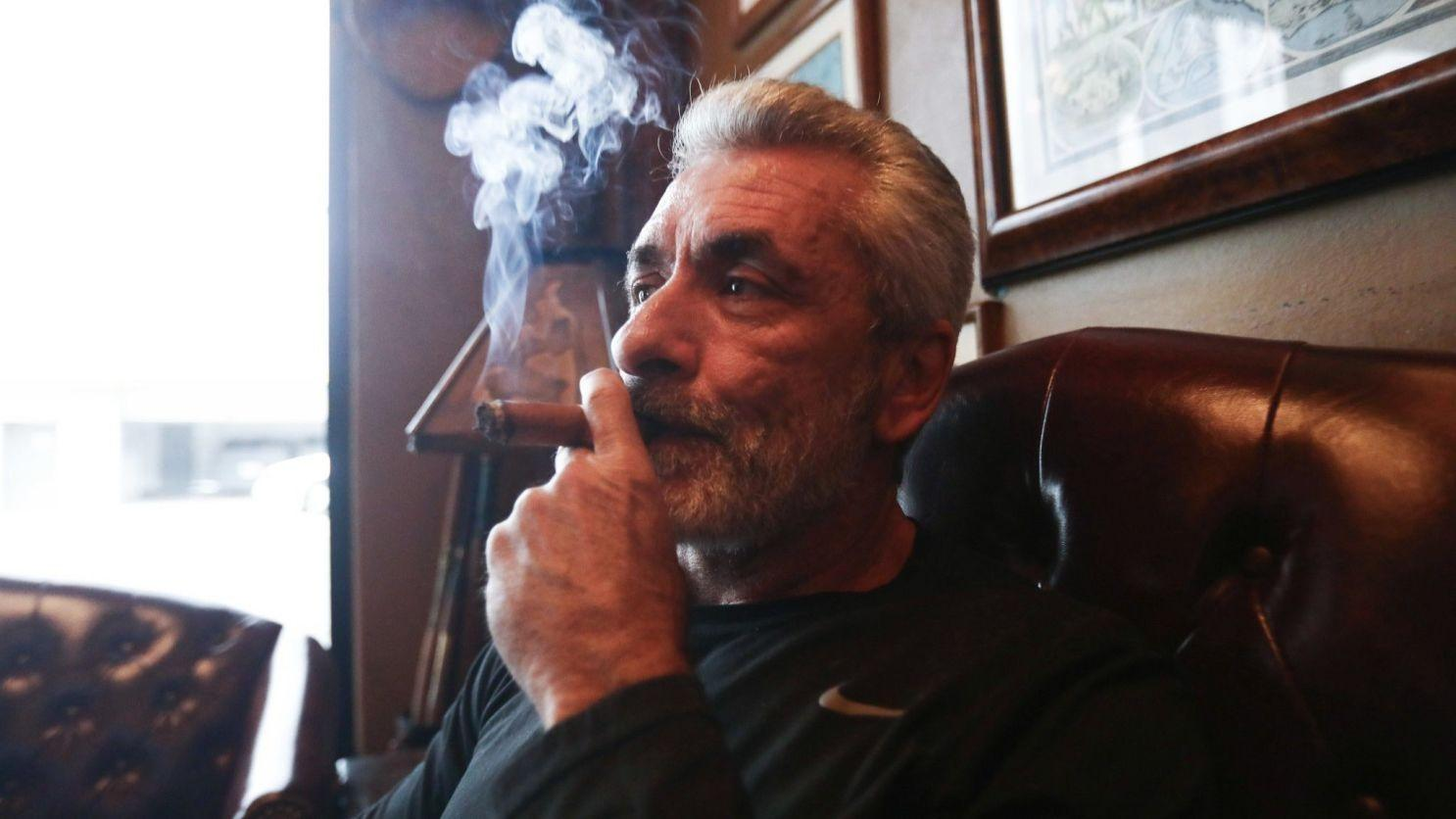cigarette: (478, 393, 598, 457)
